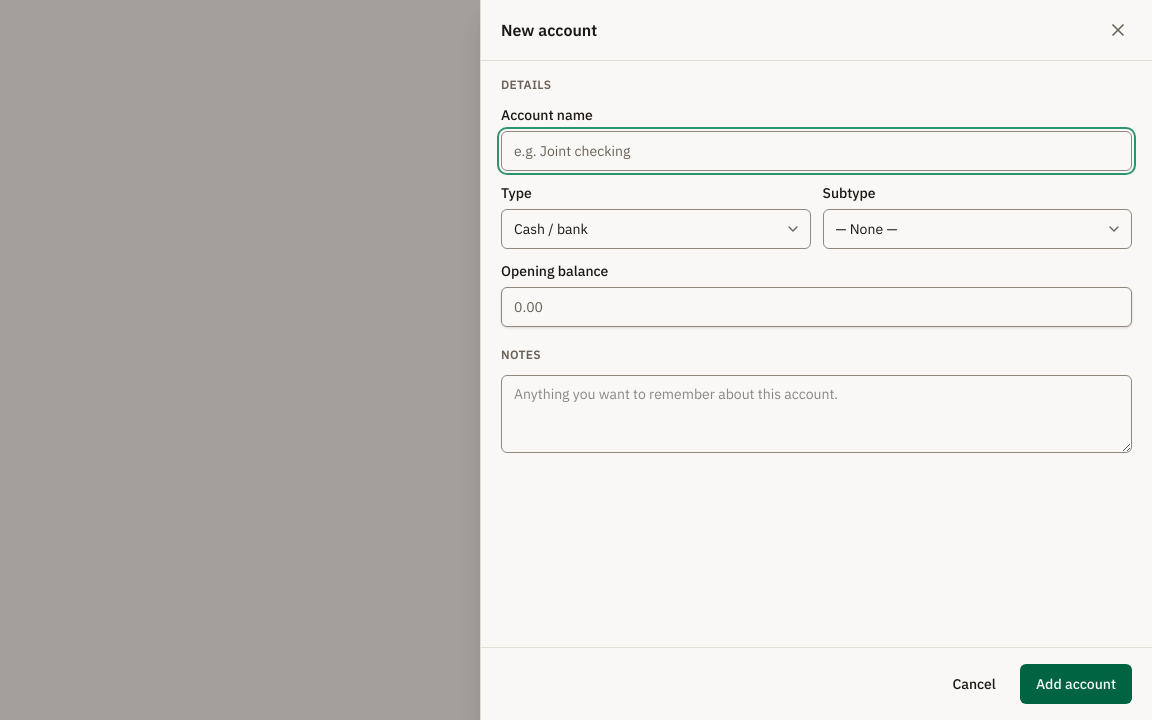
a property account labels its figure 'Value'
Select "Property / vehicle" in the dropdown labelled "Type". click: (656, 229)
box: [501,209,810,249]
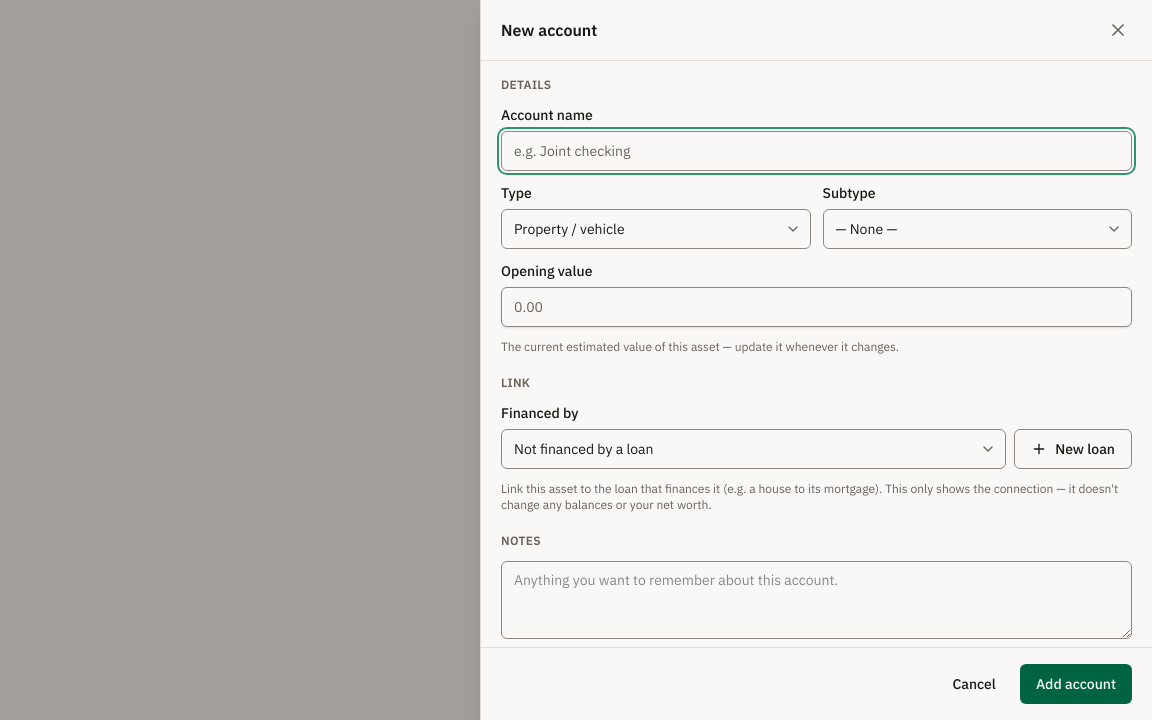
Expected: the text "Opening value" is shown, [501,262,592,280]
